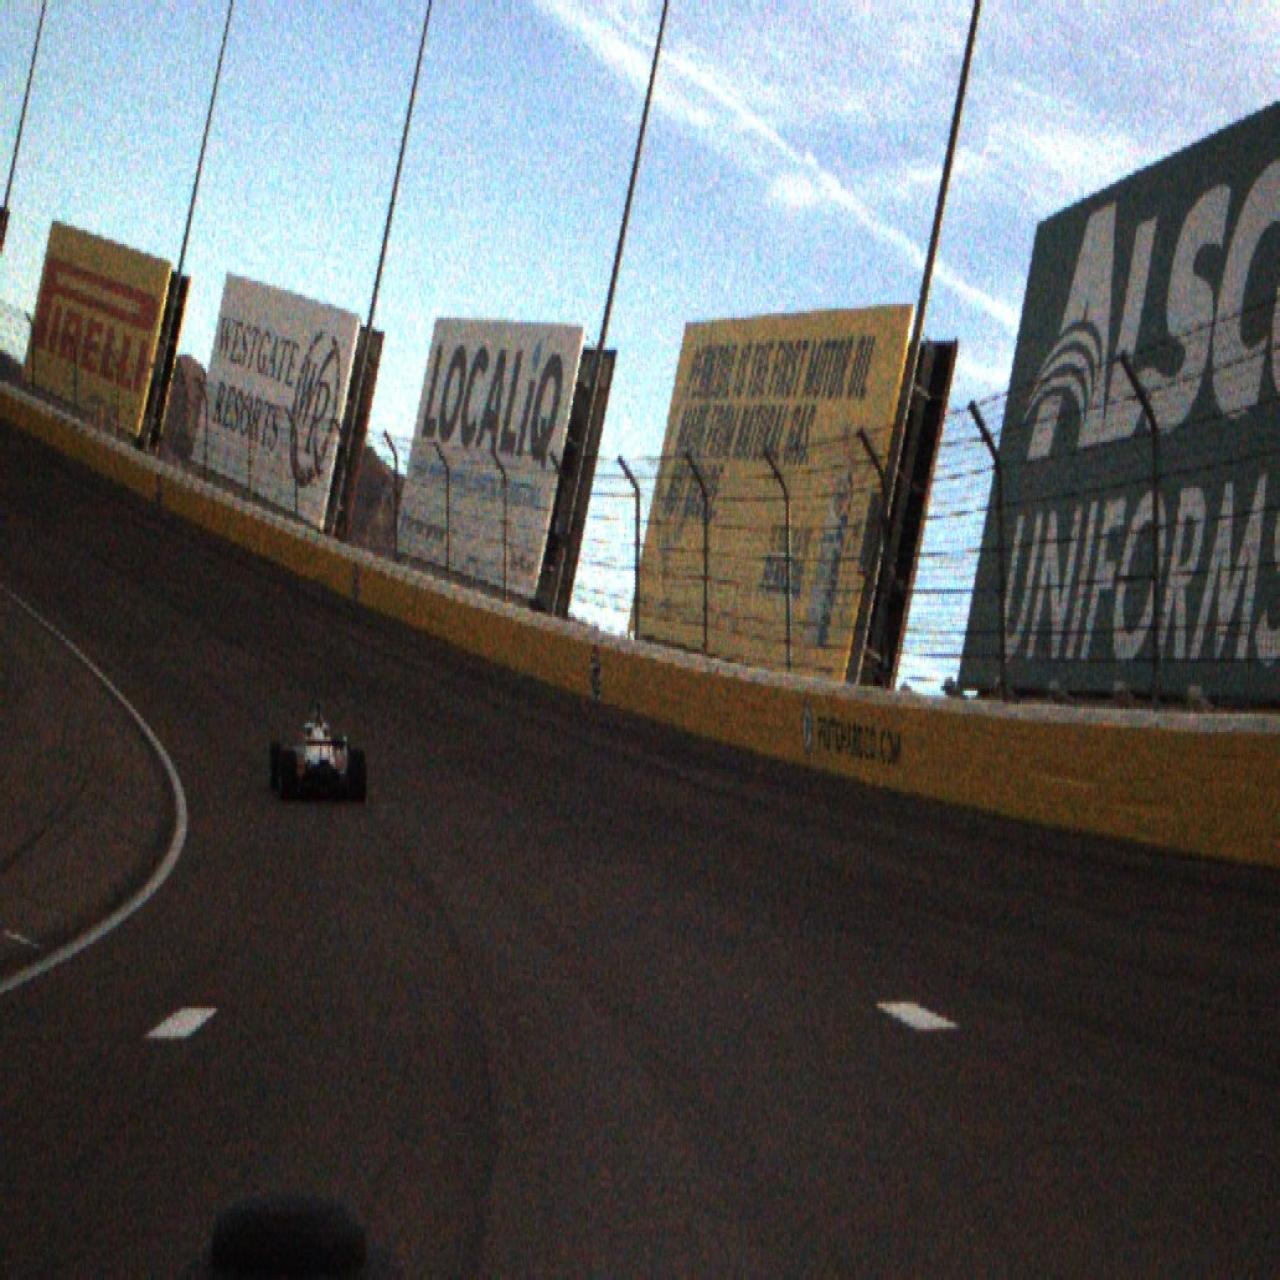AV: (267, 699, 368, 805)
Wheel: (279, 749, 298, 804), (349, 749, 368, 804), (268, 737, 282, 792)
